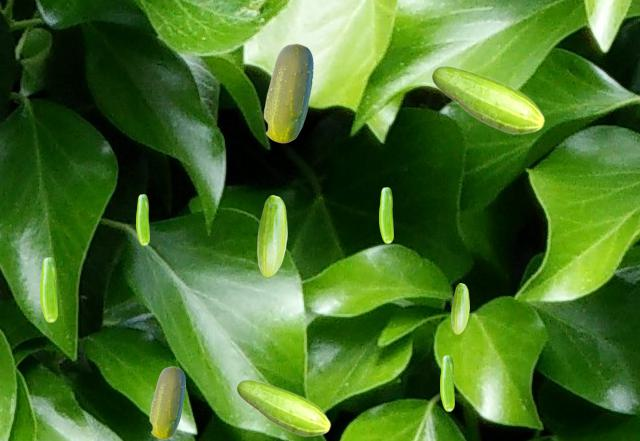cucumber: (431, 65, 544, 134), (236, 379, 330, 436), (263, 43, 312, 142), (149, 366, 184, 438), (257, 195, 286, 276), (40, 257, 56, 321), (451, 283, 468, 333), (440, 355, 453, 410), (379, 187, 392, 242), (136, 194, 148, 244)
